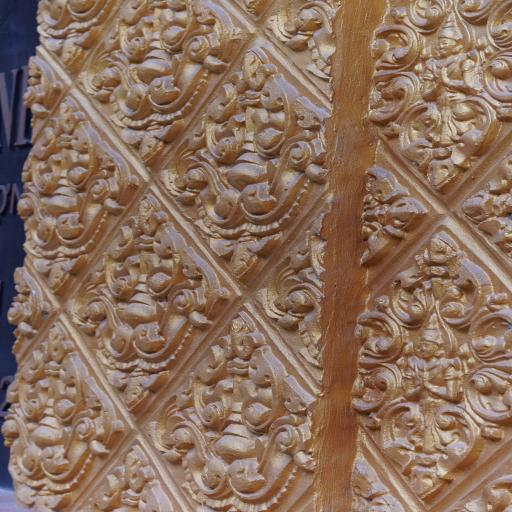la: (254, 210, 352, 378), (389, 228, 500, 341), (372, 398, 490, 504), (397, 98, 501, 190), (459, 293, 512, 444), (354, 160, 426, 266), (360, 19, 427, 132), (353, 309, 417, 424), (460, 154, 512, 269), (478, 0, 512, 120), (406, 0, 500, 28)
lua: (156, 43, 326, 286), (141, 310, 337, 512), (74, 190, 233, 410), (72, 0, 266, 170), (9, 95, 147, 293), (0, 320, 133, 512), (266, 0, 367, 85), (82, 446, 177, 512), (2, 265, 66, 352), (30, 0, 119, 60), (16, 52, 77, 128)
than: (390, 302, 476, 424), (411, 15, 484, 115)
